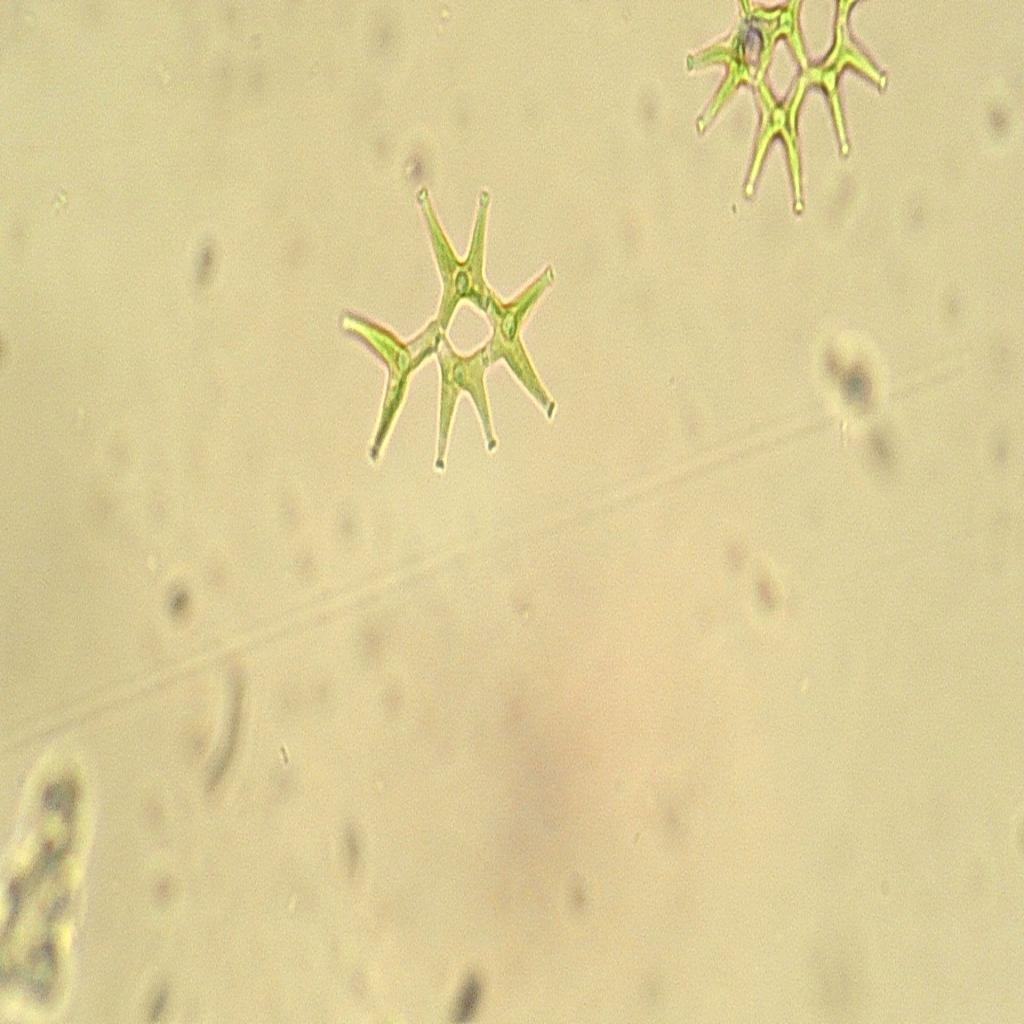Pediastrum_75FI: (320, 171, 586, 486)
